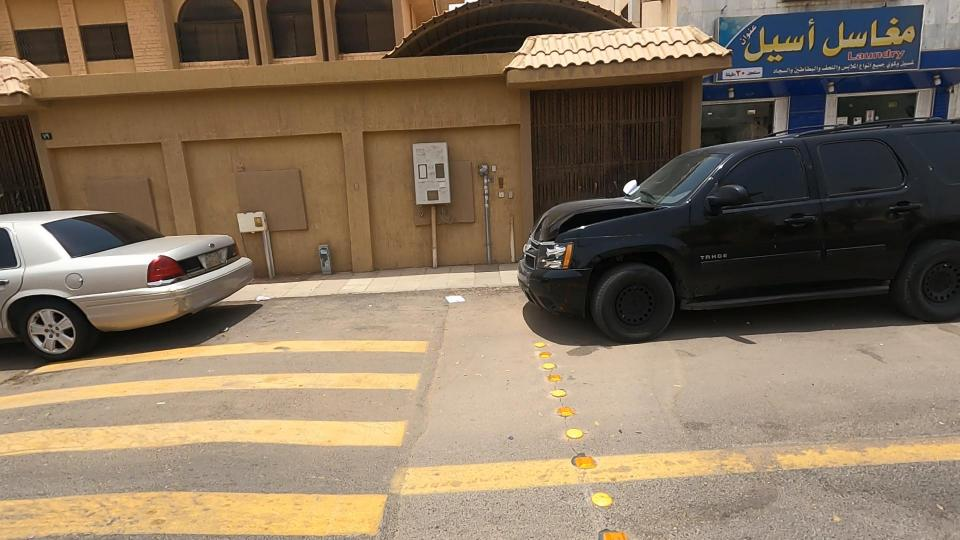GARBAGE: (395, 265, 501, 333), (239, 274, 288, 318)
